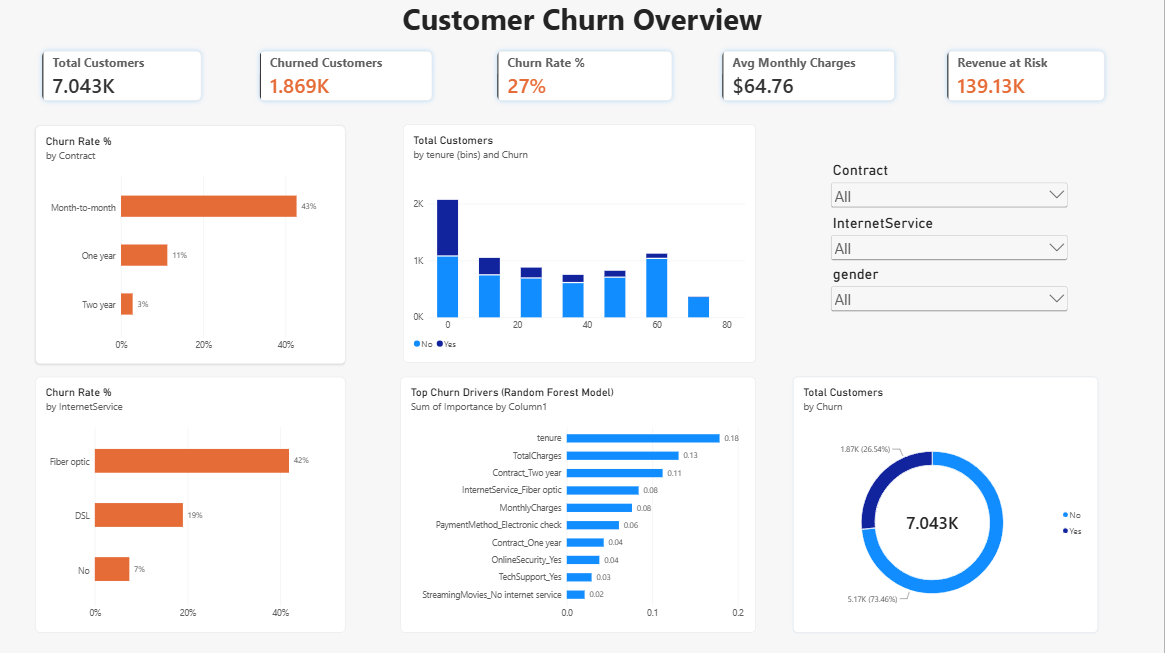

The page's visual inventory and layout, read from the dashboard file:
{"tool":"powerbi","page":{"name":"Page 1","canvas":[1920,1080],"ordinal":0},"visuals":[{"type":"cardVisual","fields":{"Data":["WA_Fn-UseC_-Telco-Customer-Churn.Total Customers"]},"box":[61.7,76.2,284,105],"z":0},{"type":"cardVisual","fields":{"Data":["WA_Fn-UseC_-Telco-Customer-Churn.Churned Customers"]},"box":[419.9,76.2,306.7,105],"z":1},{"type":"cardVisual","fields":{"Data":["WA_Fn-UseC_-Telco-Customer-Churn.Churn Rate %"]},"box":[811,76.2,310.8,105],"z":2},{"type":"cardVisual","fields":{"Data":["WA_Fn-UseC_-Telco-Customer-Churn.Avg Monthly Charges"]},"box":[1181.5,76.2,306.7,105],"z":3},{"type":"cardVisual","fields":{"Data":["WA_Fn-UseC_-Telco-Customer-Churn.Revenue at Risk"]},"box":[1552,76.2,282,105],"z":4},{"type":"clusteredBarChart","fields":{"Category":["WA_Fn-UseC_-Telco-Customer-Churn.Contract"],"Y":["WA_Fn-UseC_-Telco-Customer-Churn.Churn Rate %"]},"box":[61.7,209.9,510.5,393.1],"z":5},{"type":"columnChart","fields":{"Category":["WA_Fn-UseC_-Telco-Customer-Churn.tenure (bins)"],"Series":["WA_Fn-UseC_-Telco-Customer-Churn.Churn"],"Y":["WA_Fn-UseC_-Telco-Customer-Churn.Total Customers"]},"box":[666.9,207.9,580.4,393.1],"z":6},{"type":"clusteredBarChart","fields":{"Category":["WA_Fn-UseC_-Telco-Customer-Churn.InternetService"],"Y":["WA_Fn-UseC_-Telco-Customer-Churn.Churn Rate %"]},"box":[61.7,623.7,510.5,422],"z":7},{"type":"clusteredBarChart","title":"Top Churn Drivers (Random Forest Model)","fields":{"Category":["feature_importance.Column1"],"Y":["Sum(feature_importance.Importance)"]},"box":[662.8,623.7,584.6,422],"z":8},{"type":"slicer","fields":{"Values":["WA_Fn-UseC_-Telco-Customer-Churn.Contract"]},"box":[1366.7,269.6,399.3,86.4],"z":9},{"type":"slicer","fields":{"Values":["WA_Fn-UseC_-Telco-Customer-Churn.InternetService"]},"box":[1366.7,356.1,399.3,109.1],"z":10},{"type":"slicer","fields":{"Values":["WA_Fn-UseC_-Telco-Customer-Churn.gender"]},"box":[1366.7,440.5,399.3,98.8],"z":11},{"type":"donutChart","fields":{"Category":["WA_Fn-UseC_-Telco-Customer-Churn.Churn"],"Y":["WA_Fn-UseC_-Telco-Customer-Churn.Total Customers"]},"box":[1309.1,623.7,502.2,422],"z":12},{"type":"textbox","box":[372.6,0,1179.4,76.2],"z":13}]}

Visuals, with their boxes in screenshot pixels (x1, y1, x2, y2), scaled from the page's 1920x1080 canvas onto the 1165x653 screenshot:
cardVisual - WA_Fn-UseC_-Telco-Customer-Churn.Total Customers: <box>37,46,210,110</box>
cardVisual - WA_Fn-UseC_-Telco-Customer-Churn.Churned Customers: <box>255,46,441,110</box>
cardVisual - WA_Fn-UseC_-Telco-Customer-Churn.Churn Rate %: <box>492,46,681,110</box>
cardVisual - WA_Fn-UseC_-Telco-Customer-Churn.Avg Monthly Charges: <box>717,46,903,110</box>
cardVisual - WA_Fn-UseC_-Telco-Customer-Churn.Revenue at Risk: <box>942,46,1113,110</box>
clusteredBarChart - WA_Fn-UseC_-Telco-Customer-Churn.Contract x WA_Fn-UseC_-Telco-Customer-Churn.Churn Rate %: <box>37,127,347,365</box>
columnChart - WA_Fn-UseC_-Telco-Customer-Churn.tenure (bins) x WA_Fn-UseC_-Telco-Customer-Churn.Churn: <box>405,126,757,363</box>
clusteredBarChart - WA_Fn-UseC_-Telco-Customer-Churn.InternetService x WA_Fn-UseC_-Telco-Customer-Churn.Churn Rate %: <box>37,377,347,632</box>
"Top Churn Drivers (Random Forest Model)" clusteredBarChart: <box>402,377,757,632</box>
slicer - WA_Fn-UseC_-Telco-Customer-Churn.Contract: <box>829,163,1072,215</box>
slicer - WA_Fn-UseC_-Telco-Customer-Churn.InternetService: <box>829,215,1072,281</box>
slicer - WA_Fn-UseC_-Telco-Customer-Churn.gender: <box>829,266,1072,326</box>
donutChart - WA_Fn-UseC_-Telco-Customer-Churn.Churn x WA_Fn-UseC_-Telco-Customer-Churn.Total Customers: <box>794,377,1099,632</box>
textbox: <box>226,0,942,46</box>
